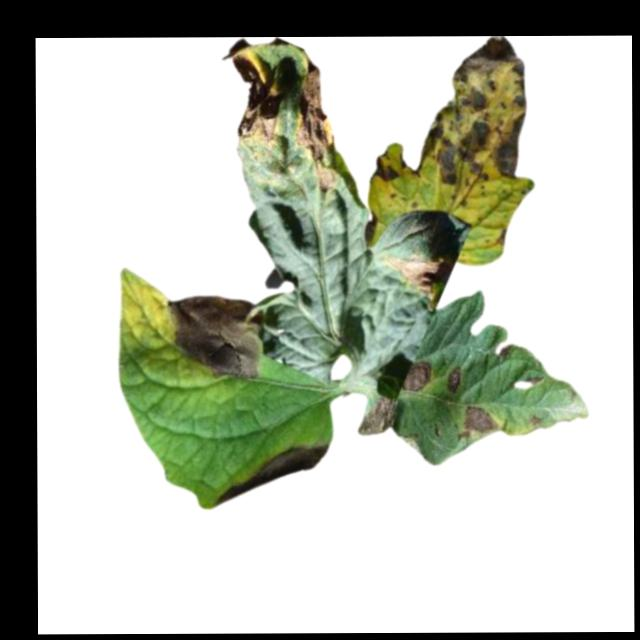Early_blight: (410, 36, 527, 190), (163, 296, 260, 379), (214, 445, 330, 506), (227, 38, 282, 157), (291, 61, 334, 194), (385, 257, 442, 299), (359, 396, 396, 441), (456, 405, 499, 442), (404, 362, 432, 393), (370, 153, 399, 182), (364, 209, 377, 243), (446, 366, 461, 393), (524, 376, 543, 389), (527, 415, 544, 429)
